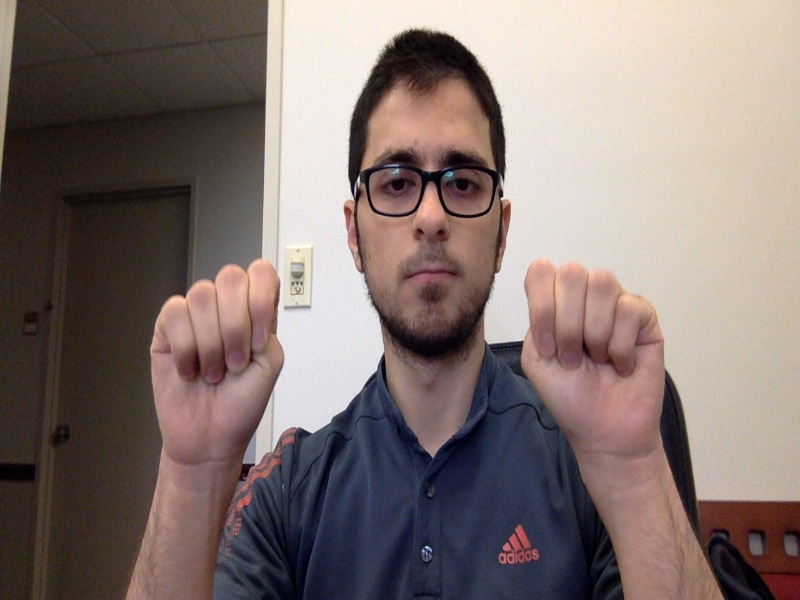0-hand: (526, 261, 665, 456), (149, 259, 283, 452)
